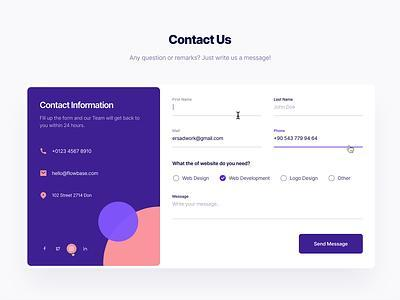button: (299, 234, 364, 255)
label: (165, 32, 238, 48), (172, 160, 253, 170), (230, 175, 272, 183), (289, 175, 321, 183), (183, 175, 211, 183), (172, 194, 192, 201), (337, 175, 353, 183), (274, 98, 295, 104), (172, 98, 194, 103), (274, 129, 288, 135), (171, 129, 182, 134)
radio: (174, 175, 182, 184), (328, 175, 337, 183), (220, 175, 228, 183), (281, 175, 289, 183)
